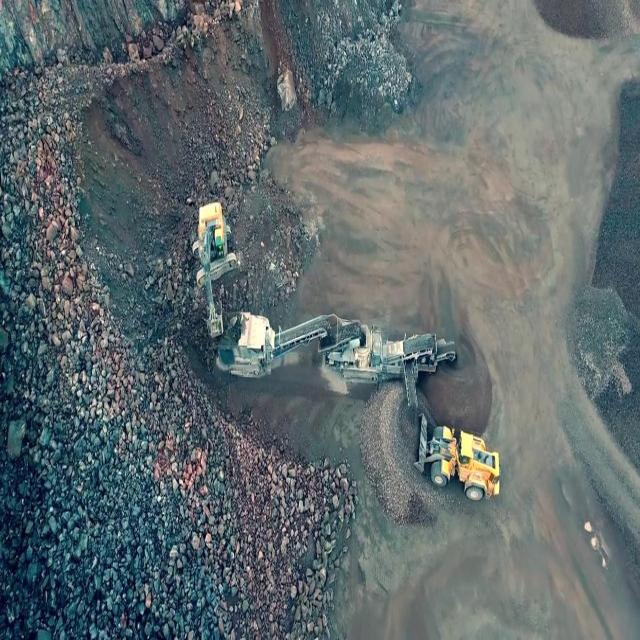buldozerpayloadergrader: (414, 411, 502, 504)
excavator: (190, 200, 238, 340)
